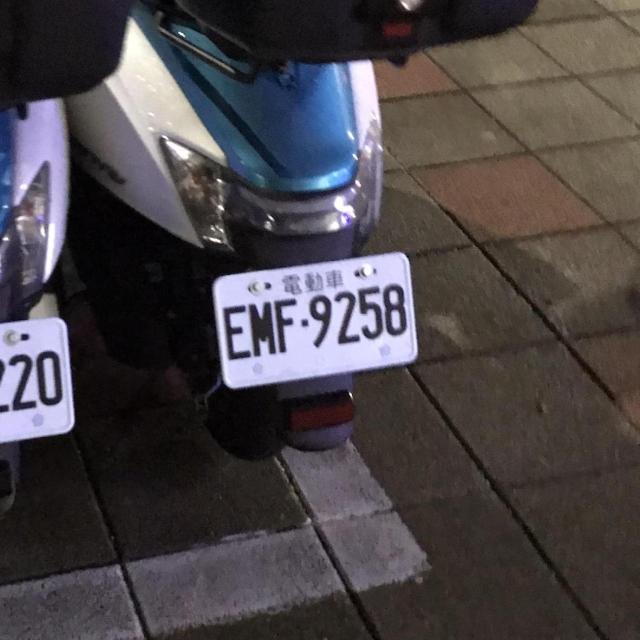W: (206, 244, 427, 397), (0, 308, 84, 470)
